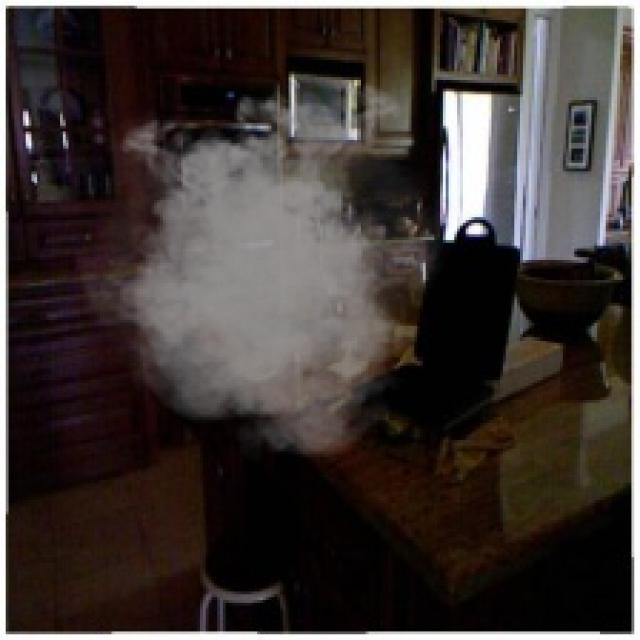smoke: (63, 71, 460, 463)
